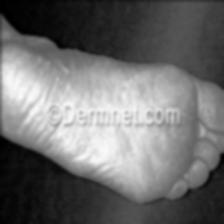Toxin: (118, 150, 152, 190), (200, 103, 218, 117)
